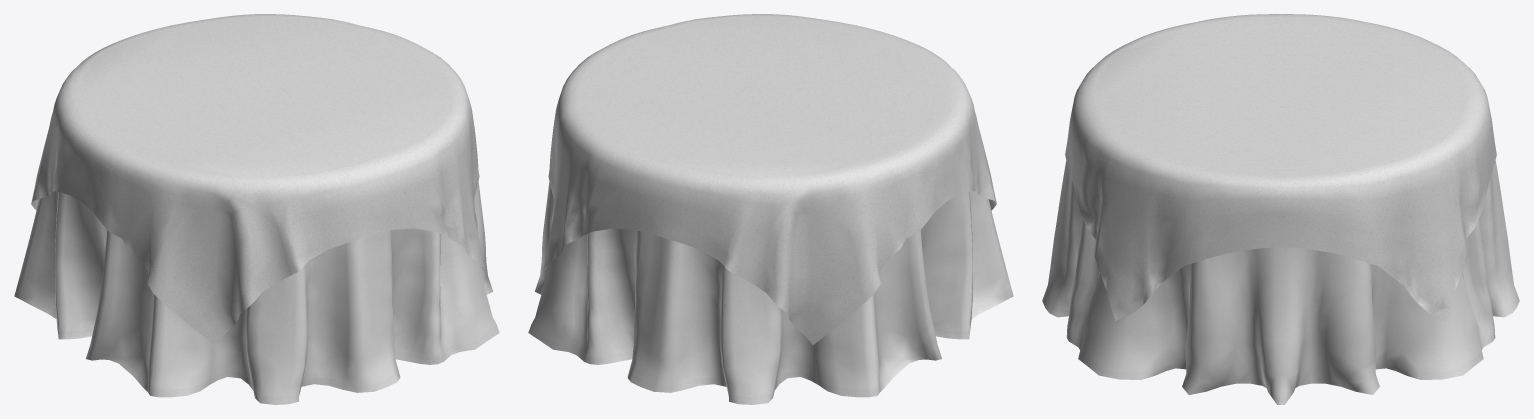
File: EventTable03Cloth02.FBX
3 views of the same model, side by side, from view 1: azimuth 30°, elevation 25°; view 2: azimuth 150°, elevation 25°; view 3: azimuth 270°, elevation 25° (orthographic).
Parts seen in each view (by area): view 1: EventTable03Cloth02; view 2: EventTable03Cloth02; view 3: EventTable03Cloth02.
Part boxes in pixels (x1=…): EventTable03Cloth02: x1=14, y1=14, x2=499, y2=404; EventTable03Cloth02: x1=528, y1=14, x2=1013, y2=404; EventTable03Cloth02: x1=1042, y1=14, x2=1519, y2=404.
Size of what is drawn, in the model's own units: 1.8 by 0.9001 by 1.87.
